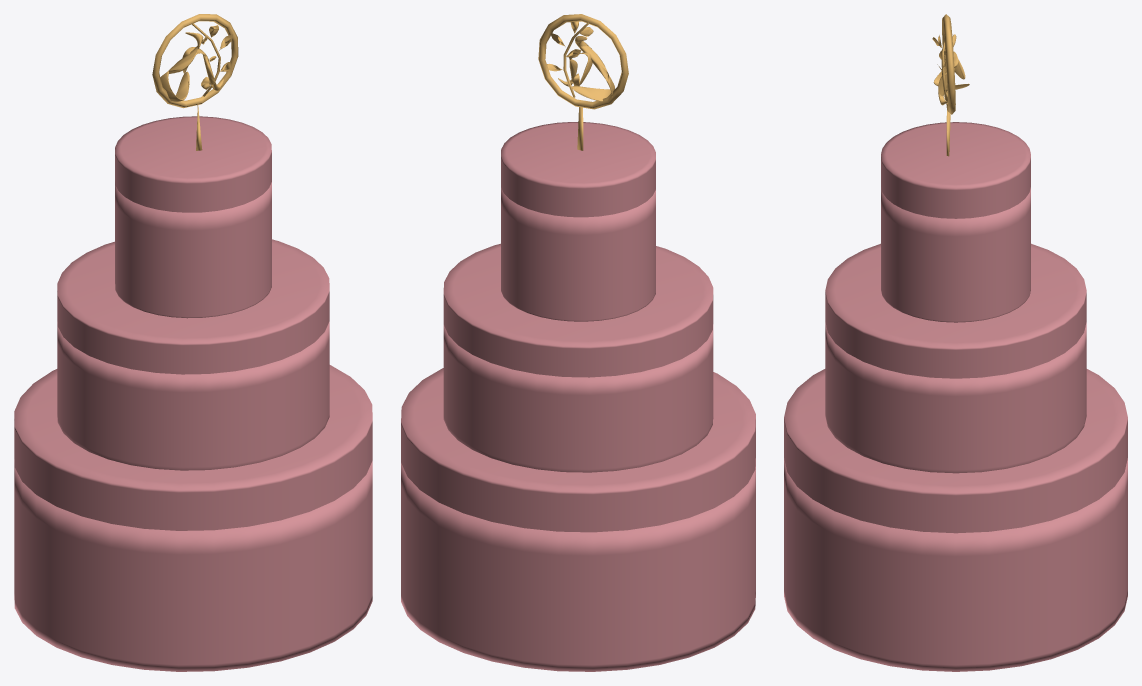
File: 3-tier-blush-none-ring.glb
The picture shows the model from 3 angles, left to right: view 1: azimuth 30°, elevation 25°; view 2: azimuth 150°, elevation 25°; view 3: azimuth 270°, elevation 25°; orthographic projection.
Parts seen in each view (by area): view 1: Cylinder.022, Cylinder.014, Cylinder.021, Cylinder.020; view 2: Cylinder.022, Cylinder.014, Cylinder.021, Cylinder.020; view 3: Cylinder.022, Cylinder.014, Cylinder.021, Cylinder.020.
Part boxes in pixels (box(x1,y1,x2,y2)): Cylinder.022: box(14, 365, 372, 671); Cylinder.014: box(57, 239, 329, 470); Cylinder.021: box(115, 116, 271, 318); Cylinder.020: box(152, 14, 238, 150); Cylinder.022: box(401, 368, 755, 671); Cylinder.014: box(443, 243, 713, 472); Cylinder.021: box(501, 122, 655, 321); Cylinder.020: box(538, 14, 628, 150); Cylinder.022: box(784, 369, 1127, 671); Cylinder.014: box(825, 243, 1086, 473); Cylinder.021: box(881, 122, 1030, 322); Cylinder.020: box(932, 14, 969, 156).
Size of the model in its own units: 4.22 by 7.52 by 4.06.
